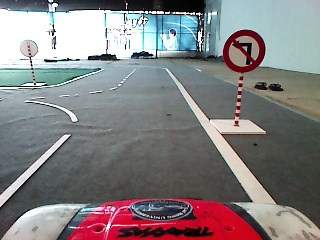ban_left: (223, 30, 267, 73)
